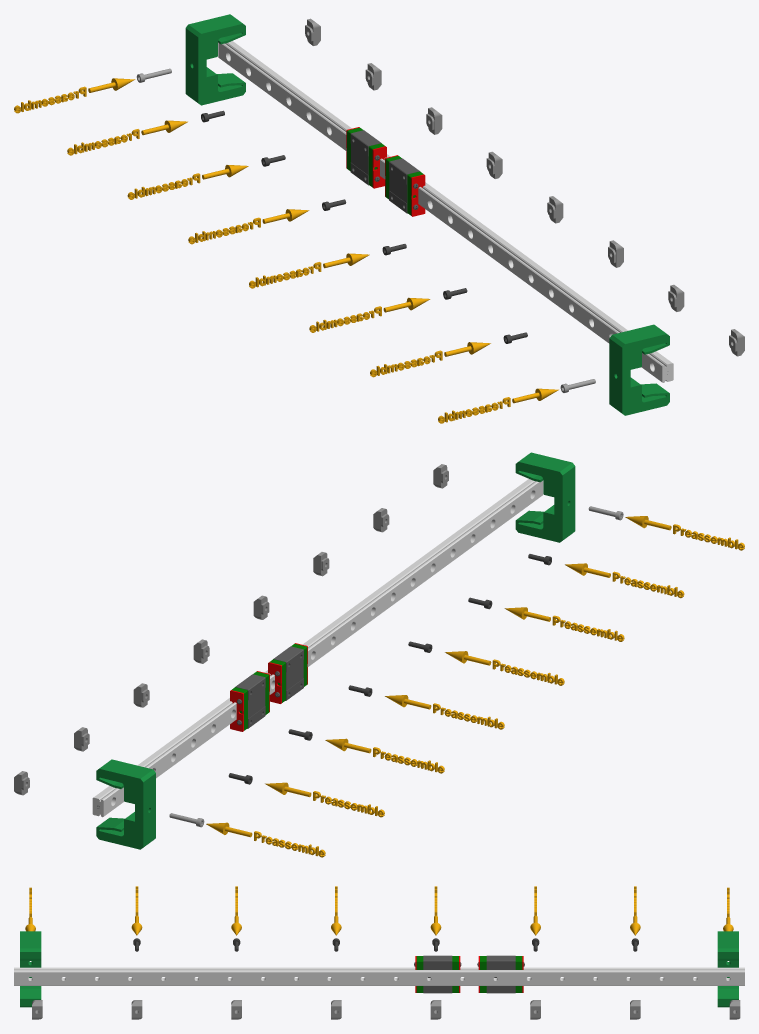
3 views of the same model, one above another, from view 1: azimuth 30°, elevation 25°; view 2: azimuth 150°, elevation 25°; view 3: azimuth 270°, elevation 25° (orthographic). The views are drawn at different scales.
Visible parts, largest first — view 1: MGNR12R550HM_FILE_2 v3, 02_47__XP__Fix_MGN12_Rail___V1.0 v005, 02_47__XP__Fix_MGN12_Rail___V1.0 v4, MGN12CZ0HM_FILE_3 v002, MGN12CZ0HM_FILE_3 v1; view 2: MGNR12R550HM_FILE_2 v3, 02_47__XP__Fix_MGN12_Rail___V1.0 v4, 02_47__XP__Fix_MGN12_Rail___V1.0 v005, MGN12CZ0HM_FILE_3 v1, MGN12CZ0HM_FILE_3 v002; view 3: MGNR12R550HM_FILE_2 v3, 02_47__XP__Fix_MGN12_Rail___V1.0 v005, 02_47__XP__Fix_MGN12_Rail___V1.0 v4, MGN12CZ0HM_FILE_3 v1, MGN12CZ0HM_FILE_3 v002.
Boxes of the visible parts, x1,y1,x2,y2 form: MGNR12R550HM_FILE_2 v3: (218, 41, 673, 382); 02_47__XP__Fix_MGN12_Rail___V1.0 v005: (185, 14, 245, 105); 02_47__XP__Fix_MGN12_Rail___V1.0 v4: (609, 324, 669, 415); MGN12CZ0HM_FILE_3 v002: (385, 155, 425, 216); MGN12CZ0HM_FILE_3 v1: (346, 127, 386, 188); MGNR12R550HM_FILE_2 v3: (92, 479, 542, 817); 02_47__XP__Fix_MGN12_Rail___V1.0 v4: (515, 452, 575, 542); 02_47__XP__Fix_MGN12_Rail___V1.0 v005: (96, 759, 155, 849); MGN12CZ0HM_FILE_3 v1: (230, 671, 269, 731); MGN12CZ0HM_FILE_3 v002: (268, 643, 307, 703); MGNR12R550HM_FILE_2 v3: (14, 967, 744, 985); 02_47__XP__Fix_MGN12_Rail___V1.0 v005: (717, 931, 738, 1007); 02_47__XP__Fix_MGN12_Rail___V1.0 v4: (20, 931, 41, 1007); MGN12CZ0HM_FILE_3 v1: (477, 955, 524, 993); MGN12CZ0HM_FILE_3 v002: (414, 955, 461, 993).
Size of the model in its own units: 0.222 by 0.049 by 0.55.
